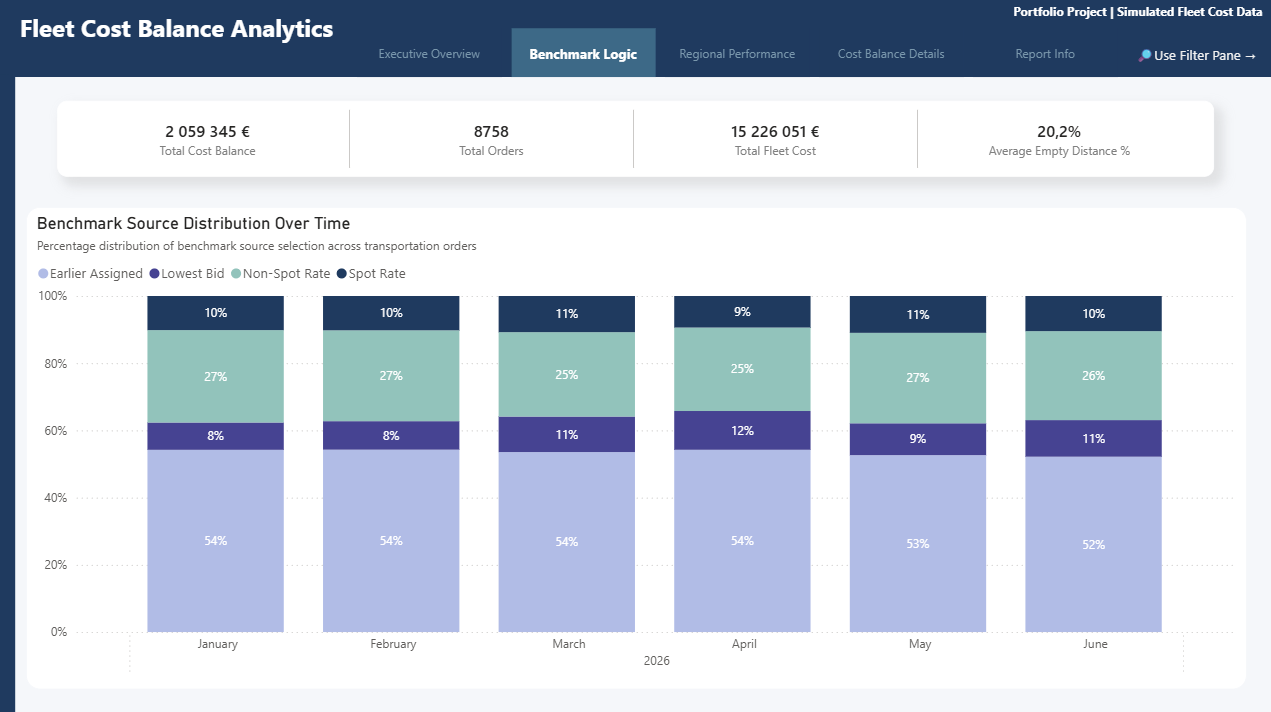

This screenshot's page, from the dashboard's own definition file:
{"tool":"powerbi","page":{"name":"Benchmark Logic","canvas":[1280,720],"ordinal":1},"visuals":[{"type":"hundredPercentStackedColumnChart","title":"Benchmark Source Distribution Over Time","fields":{"Series":["dim_cost_balance_source.cost_balance_source"],"Y":["_measures.Total Orders"],"Category":["dim_calendar.Year","dim_calendar.Month Name"]},"box":[87.1,210,1157.1,482.9],"z":0},{"type":"shape","box":[0,0,1280.3,80],"z":1000},{"type":"textbox","box":[19.2,10,332.1,67.2],"z":2000},{"type":"textbox","box":[1012.4,0,267.6,39.8],"z":3000},{"type":"pageNavigator","box":[360.9,31,661.4,49.4],"z":4000},{"type":"cardVisual","fields":{"Data":["_measures.Total Cost Balance","_measures.Total Orders","_measures.Total DF Cost","_measures.Average Empty Distance %"]},"box":[87.1,100,1157.1,75.7],"z":5000}]}

Visuals, with their boxes in screenshot pixels (x1, y1, x2, y2), scaled from the page's 1280x720 canvas onto the 1271x712 screenshot:
"Benchmark Source Distribution Over Time" hundredPercentStackedColumnChart: x1=86 y1=208 x2=1235 y2=685
shape: x1=0 y1=0 x2=1270 y2=79
textbox: x1=19 y1=10 x2=349 y2=76
textbox: x1=1005 y1=0 x2=1270 y2=39
pageNavigator: x1=358 y1=31 x2=1015 y2=80
cardVisual - _measures.Total Cost Balance x _measures.Total Orders: x1=86 y1=99 x2=1235 y2=174
